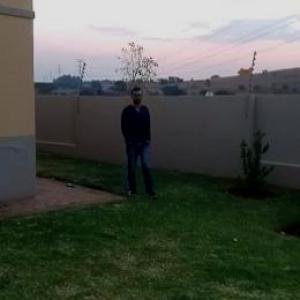follow: (116, 84, 154, 198)
